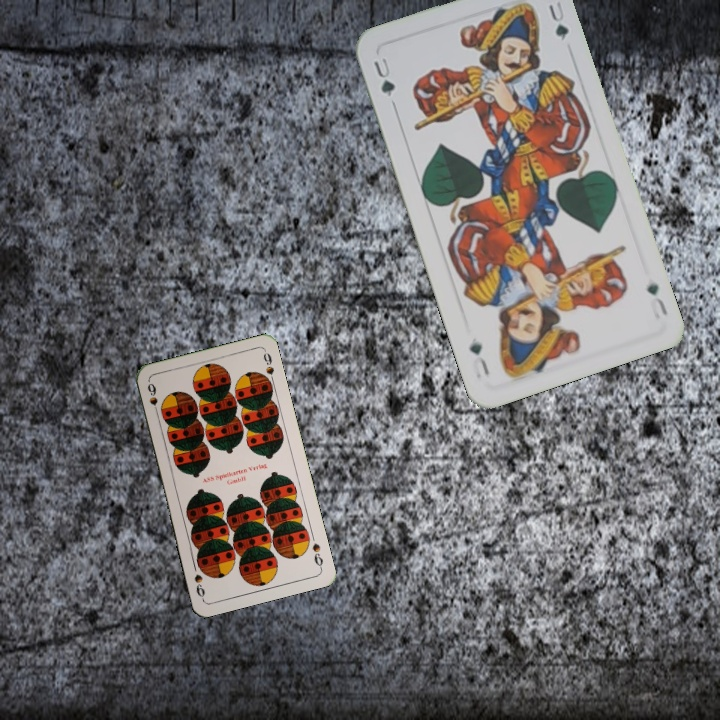GU: (369, 53, 398, 99), (642, 279, 670, 322)
S9: (143, 379, 161, 419), (308, 539, 325, 571)
